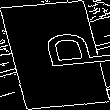P_W: (9, 33, 101, 77)
